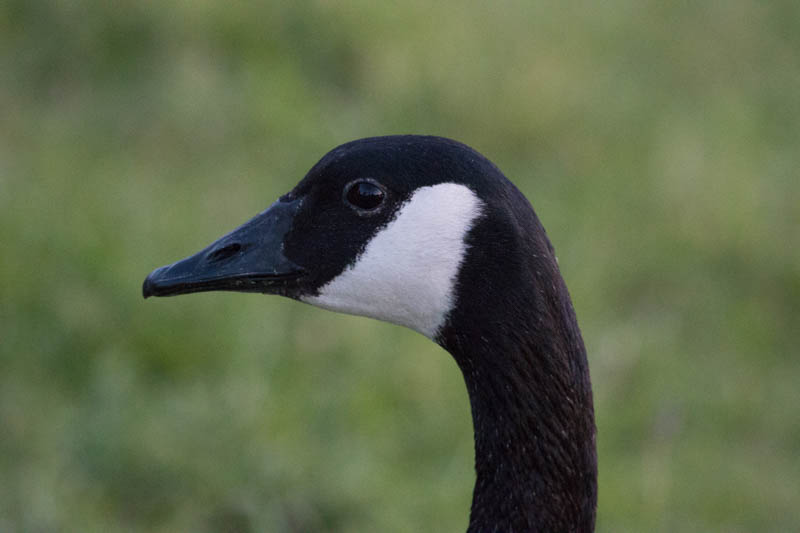goose-head: (143, 136, 571, 349)
